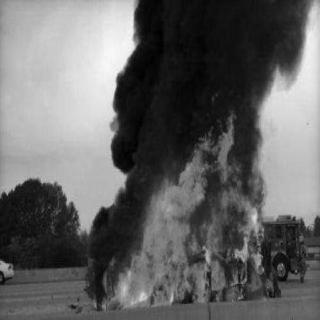Fire: (96, 108, 266, 308)
Smoke: (114, 1, 298, 189)
